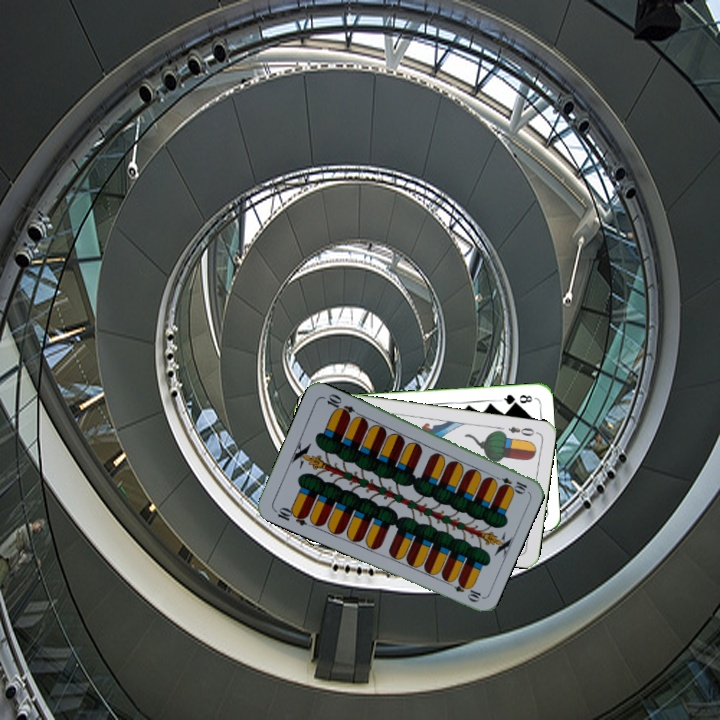E10: (270, 503, 311, 528), (490, 472, 530, 495)
EO: (504, 422, 537, 439)
G8: (496, 390, 535, 407)
